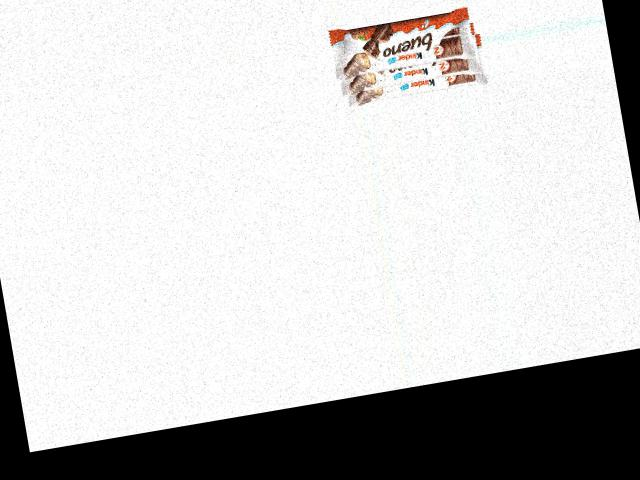chocolate: (331, 4, 487, 108)
